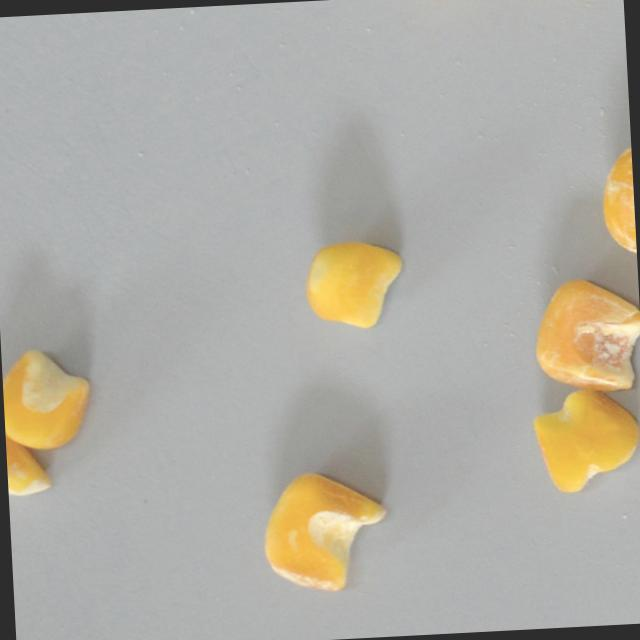dañado: (252, 460, 398, 605), (522, 271, 640, 399), (529, 384, 640, 497), (298, 233, 409, 334), (1, 342, 101, 452), (593, 135, 637, 260), (6, 435, 58, 502)
